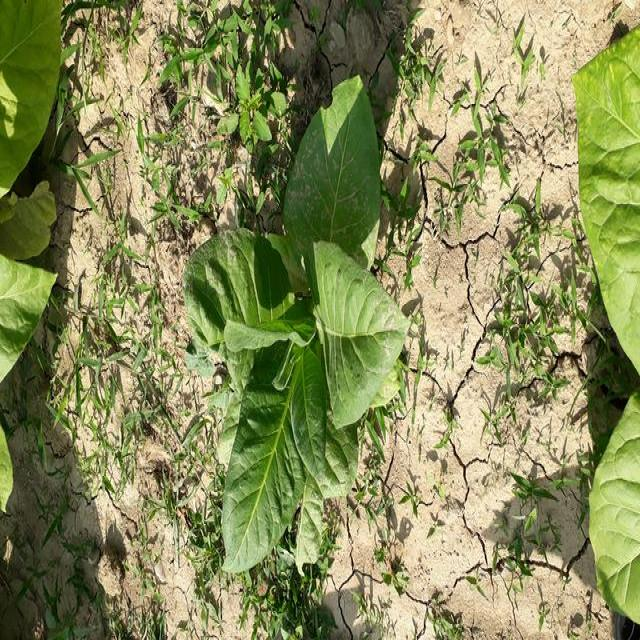crop: (179, 89, 404, 587)
